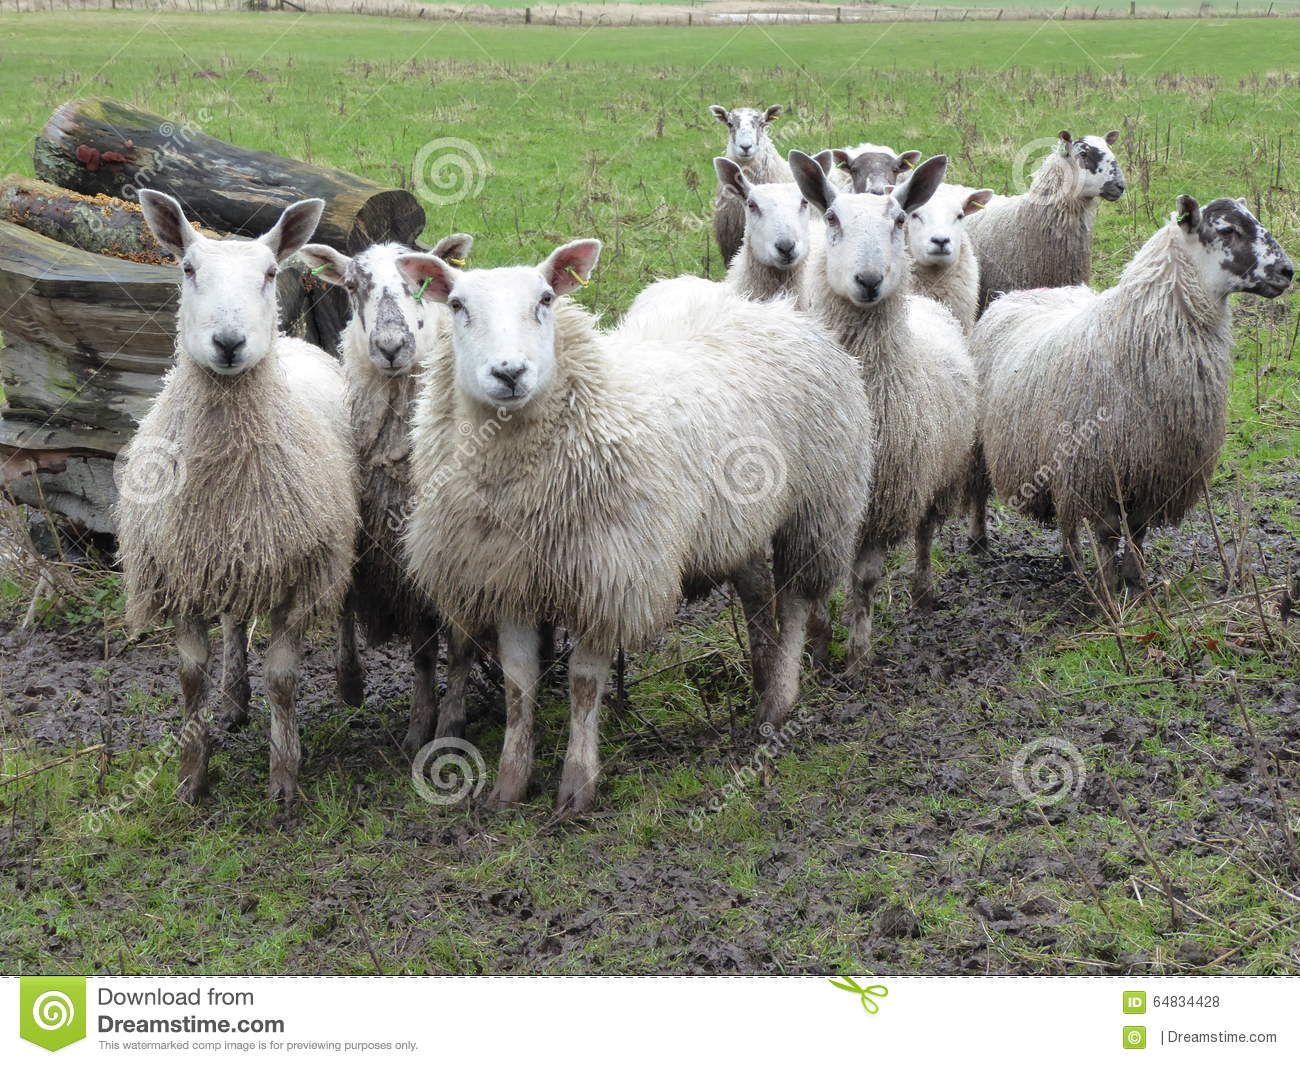sheep: (453, 265, 913, 836), (101, 196, 406, 778), (996, 200, 1264, 562), (320, 233, 502, 485), (964, 109, 1136, 305), (832, 134, 1008, 264), (673, 78, 791, 207), (693, 134, 802, 274)
